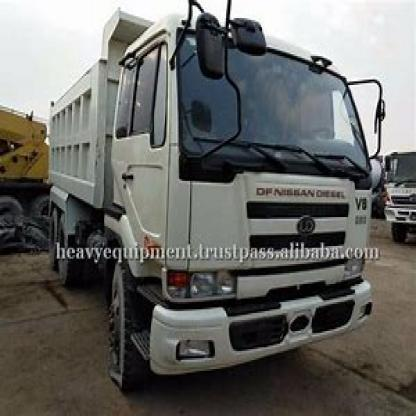dump_truck: (41, 7, 382, 396)
